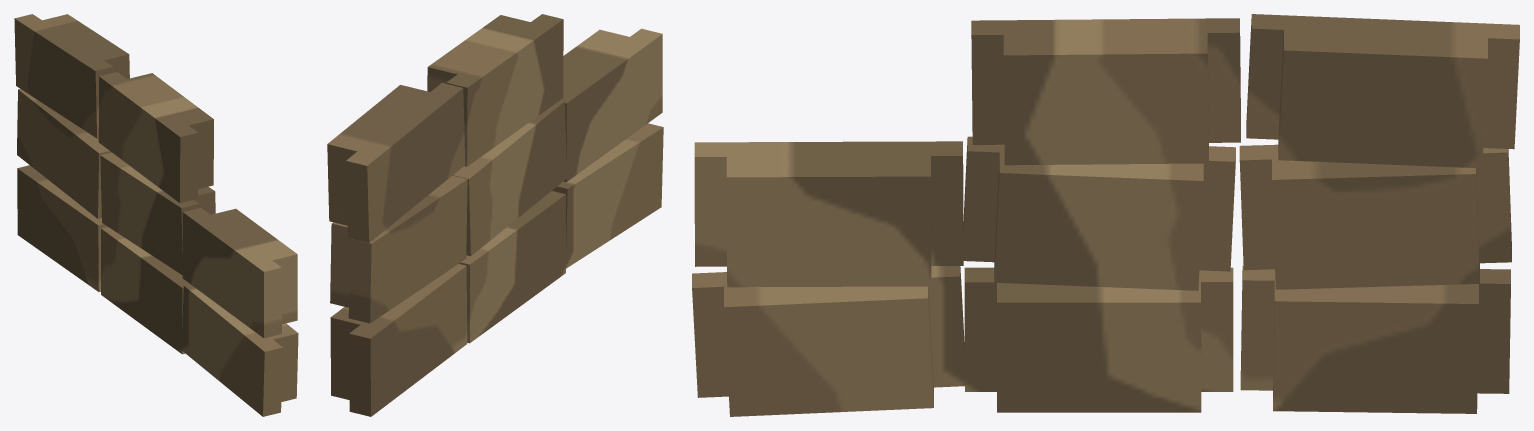
Rendered from SM_Veh_Attach_Tank_Armour_10.fbx.
3 renders of one model, left to right at view 1: azimuth 30°, elevation 25°; view 2: azimuth 150°, elevation 25°; view 3: azimuth 270°, elevation 25°, orthographic. The views are drawn at different scales.
Visible parts, largest first — view 1: SM_Veh_Attach_Tank_Armour_10; view 2: SM_Veh_Attach_Tank_Armour_10; view 3: SM_Veh_Attach_Tank_Armour_10.
Boxes of the visible parts, x1,y1,x2,y2 form: SM_Veh_Attach_Tank_Armour_10: (14, 14, 298, 416); SM_Veh_Attach_Tank_Armour_10: (327, 14, 663, 416); SM_Veh_Attach_Tank_Armour_10: (692, 14, 1519, 416).
Size of the model in its own units: 11.1 by 54.45 by 111.
